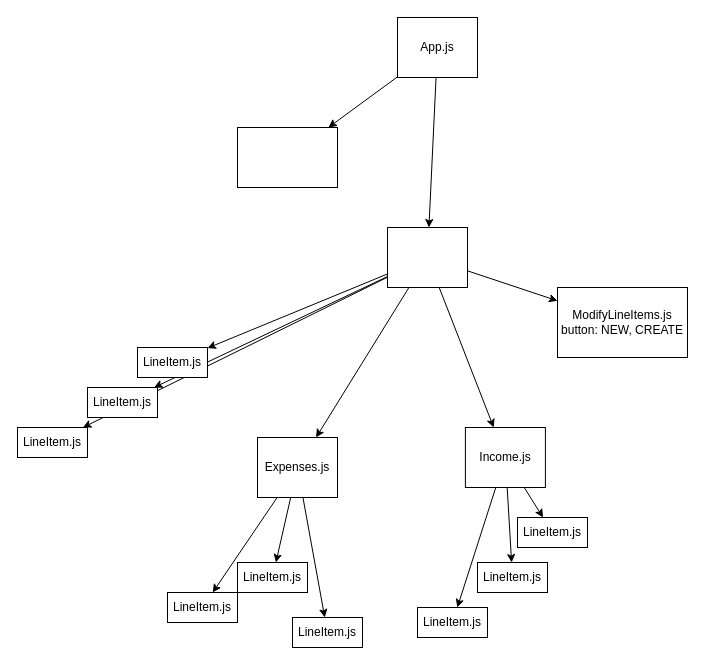
Image size: 705x665. Some labels were removed from this diagram. Each missing label, with the centre of its shape:
"Navbar.js" belongs at point (287, 157).
"Summary.js" belongs at point (427, 257).
